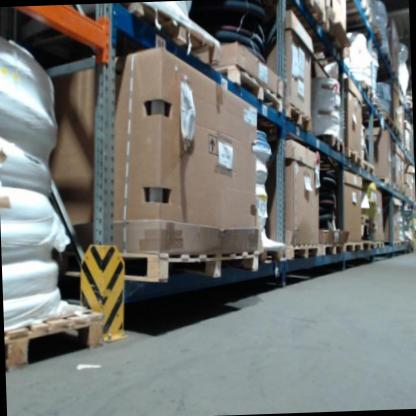pallet: (3, 300, 106, 376), (125, 0, 222, 70), (110, 243, 261, 287), (215, 58, 284, 117), (283, 102, 312, 135), (284, 241, 321, 261), (319, 131, 344, 156), (320, 241, 345, 259), (344, 147, 364, 168), (357, 79, 374, 103), (359, 0, 373, 24), (381, 112, 395, 132), (344, 239, 362, 253), (362, 158, 375, 177), (372, 26, 383, 45), (360, 239, 374, 251), (391, 123, 401, 139), (392, 238, 401, 248), (373, 241, 384, 249)
